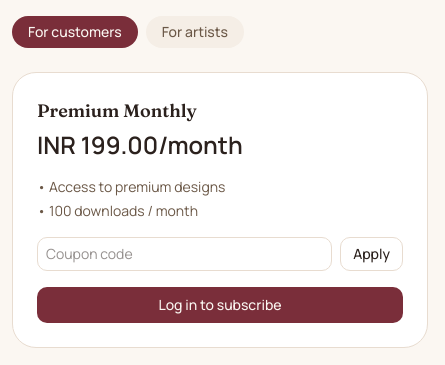
it: PricingView › switches to artist plans on tab click
Expected: the heading "Premium Monthly" is shown, [37,99,197,122]
Click the button "For artists" at (195,32), box [146,16,244,48]
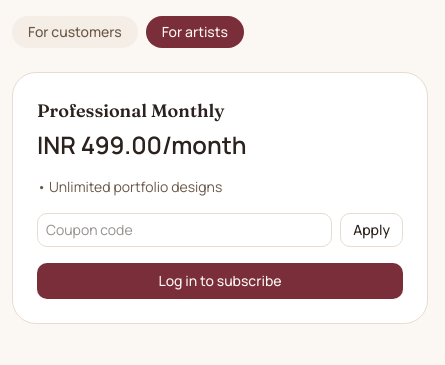
Now the heading "Professional Monthly" is shown, box [37,99,224,122]
Now the heading "Premium Monthly" is gone
